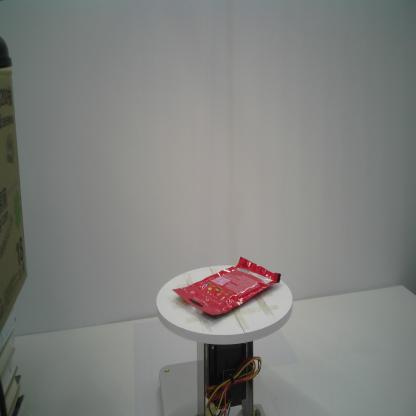Candy: (172, 255, 282, 316)
